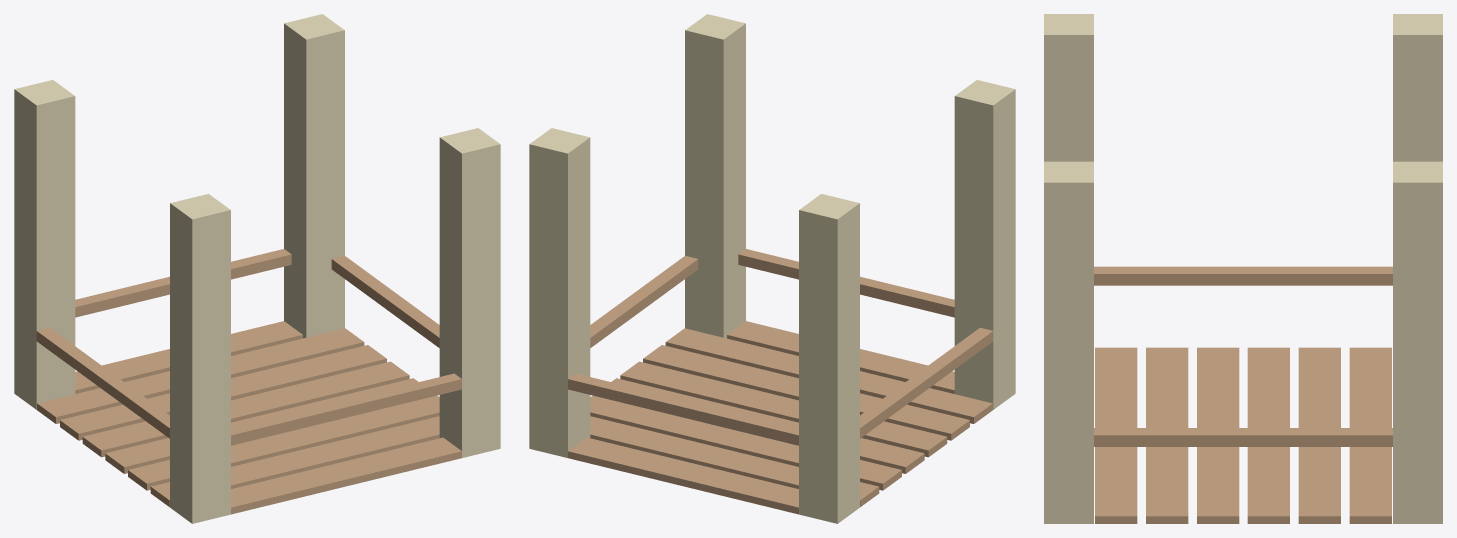
The model's file is towerSquareMidOpenSimple_exclusive.fbx.
The picture shows the model from 3 angles, left to right: view 1: azimuth 30°, elevation 25°; view 2: azimuth 150°, elevation 25°; view 3: azimuth 270°, elevation 25°; orthographic projection. The views are drawn at different scales.
Parts seen in each view (by area): view 1: towerSquareMidOpenSimple_exclusive, plank 15, plank 9, plank 12, plank 11, plank 10, plank 14, rail 4, rail 5, plank 8, rail 7, rail 6 (+1 smaller); view 2: towerSquareMidOpenSimple_exclusive, plank 8, plank 13, plank 10, plank 14, plank 12, plank 11, rail 7, rail 5, plank 15, rail 4, rail 6 (+1 smaller); view 3: towerSquareMidOpenSimple_exclusive, plank 9, plank 10, plank 11, plank 12, plank 13, plank 14, rail 5, rail 6.
Part boxes in pixels (x1=…): towerSquareMidOpenSimple_exclusive: x1=14, y1=14, x2=500, y2=523; plank 15: x1=231, y1=437, x2=461, y2=514; plank 9: x1=82, y1=361, x2=409, y2=457; plank 12: x1=128, y1=395, x2=439, y2=490; plank 11: x1=37, y1=328, x2=364, y2=423; plank 10: x1=60, y1=345, x2=386, y2=440; plank 14: x1=150, y1=416, x2=439, y2=507; rail 4: x1=231, y1=373, x2=461, y2=445; rail 5: x1=36, y1=327, x2=169, y2=438; plank 8: x1=75, y1=321, x2=302, y2=393; rail 7: x1=75, y1=249, x2=291, y2=317; rail 6: x1=331, y1=255, x2=439, y2=347; towerSquareMidOpenSimple_exclusive: x1=529, y1=14, x2=1015, y2=523; plank 8: x1=568, y1=437, x2=798, y2=514; plank 13: x1=620, y1=361, x2=947, y2=457; plank 10: x1=590, y1=395, x2=901, y2=490; plank 14: x1=665, y1=328, x2=992, y2=423; plank 12: x1=643, y1=345, x2=969, y2=440; plank 11: x1=590, y1=416, x2=879, y2=507; rail 7: x1=568, y1=373, x2=798, y2=445; rail 5: x1=860, y1=327, x2=993, y2=438; plank 15: x1=727, y1=321, x2=954, y2=393; rail 4: x1=738, y1=249, x2=954, y2=317; rail 6: x1=590, y1=255, x2=698, y2=347; towerSquareMidOpenSimple_exclusive: x1=1044, y1=14, x2=1442, y2=523; plank 9: x1=1247, y1=347, x2=1289, y2=523; plank 10: x1=1298, y1=347, x2=1340, y2=523; plank 11: x1=1349, y1=347, x2=1391, y2=523; plank 12: x1=1146, y1=347, x2=1188, y2=523; plank 13: x1=1197, y1=347, x2=1239, y2=523; plank 14: x1=1095, y1=347, x2=1137, y2=523; rail 5: x1=1094, y1=266, x2=1392, y2=285; rail 6: x1=1094, y1=428, x2=1392, y2=446.
Size of the model in its own units: 9.3 by 8.78 by 9.3.
